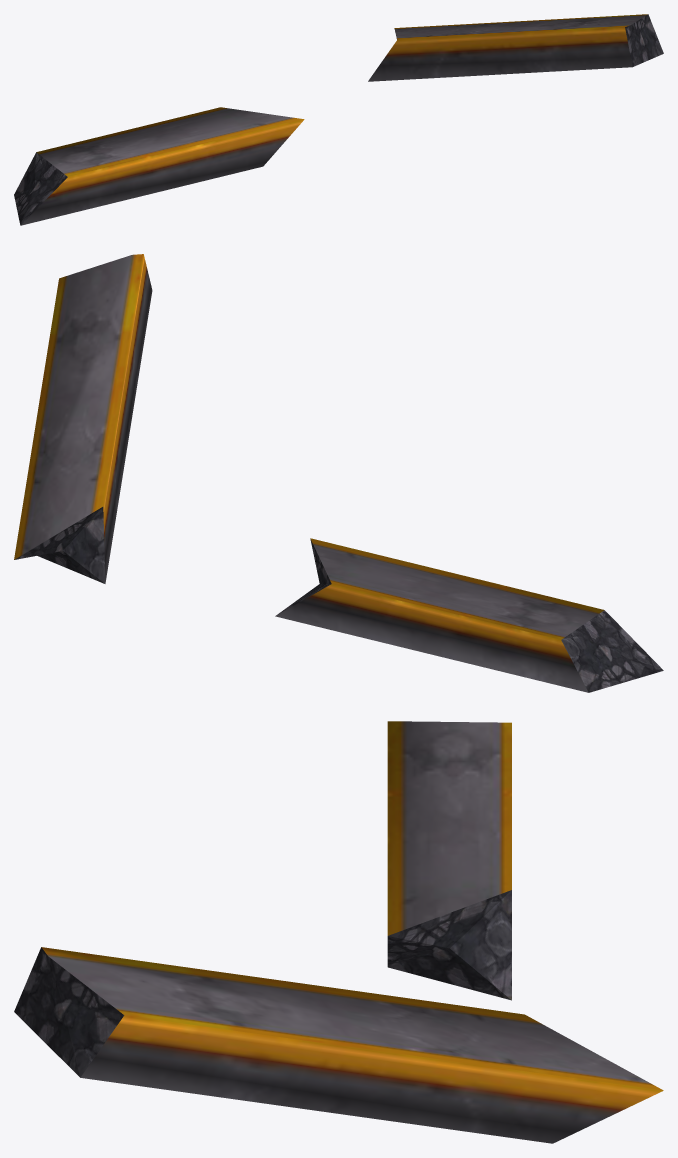
File: BOSS_Pillars_08.FBX
The picture shows the model from 3 angles, top to bottom: view 1: azimuth 30°, elevation 25°; view 2: azimuth 150°, elevation 25°; view 3: azimuth 270°, elevation 25°; orthographic projection. The views are drawn at different scales.
Parts seen in each view (by area): view 1: BOSS_Pillars_08; view 2: BOSS_Pillars_08; view 3: BOSS_Pillars_08.
Boxes of the visible parts, left/top/right/bottom form: BOSS_Pillars_08: left=14, top=14, right=663, bottom=225; BOSS_Pillars_08: left=14, top=254, right=663, bottom=692; BOSS_Pillars_08: left=14, top=721, right=663, bottom=1143.
Bounding box in the file's own units: 4.88 × 1.18 × 2.64.
